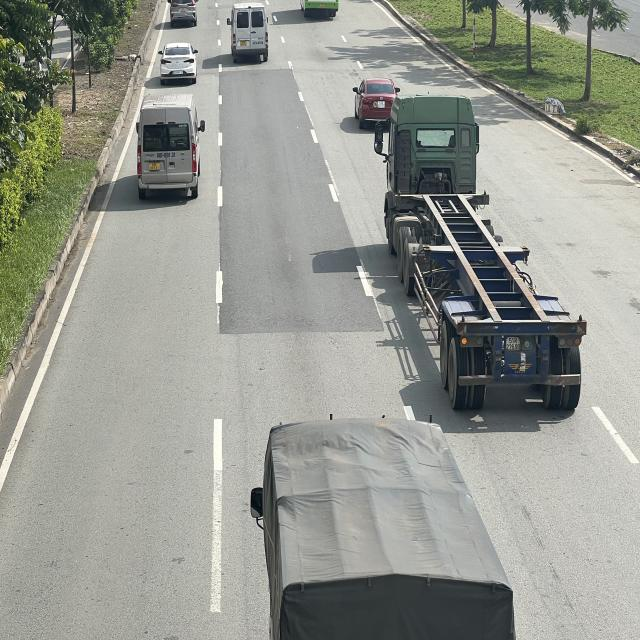car: (354, 76, 399, 126), (160, 42, 198, 79), (168, 0, 198, 26)
container: (374, 95, 585, 408)
truck: (250, 420, 516, 640)
van: (136, 92, 205, 197), (227, 2, 269, 60)
